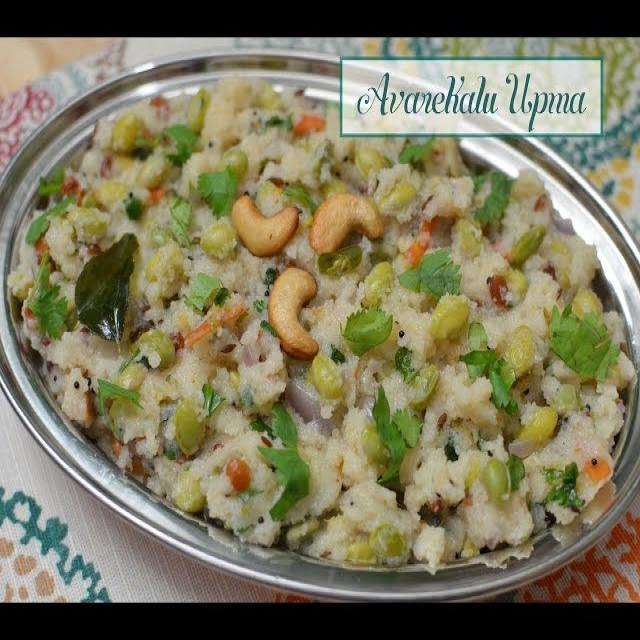upma: (0, 58, 640, 586)
